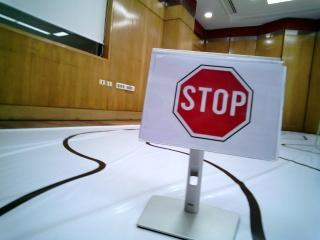stop: (157, 55, 269, 151)
